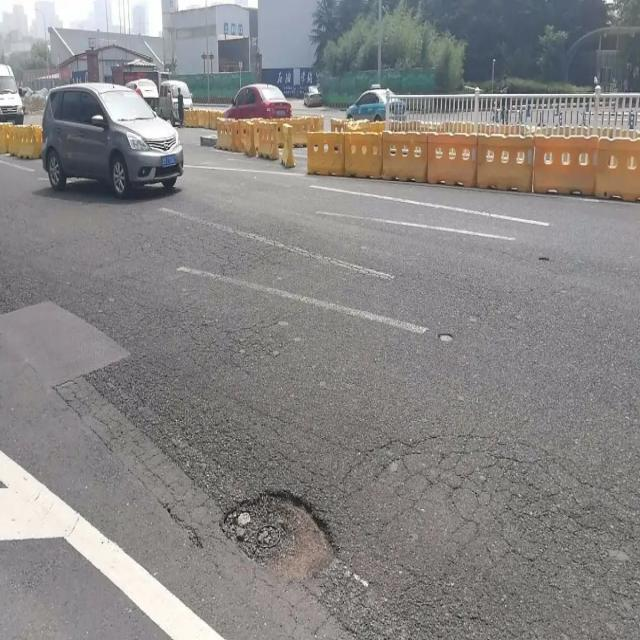Pothole: (222, 488, 336, 578), (440, 332, 452, 344), (539, 256, 548, 263)
